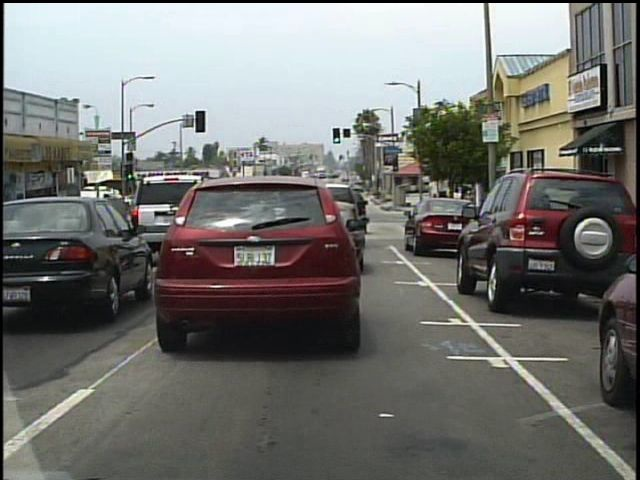person: (448, 191, 461, 230), (463, 188, 477, 220), (440, 192, 450, 230)
